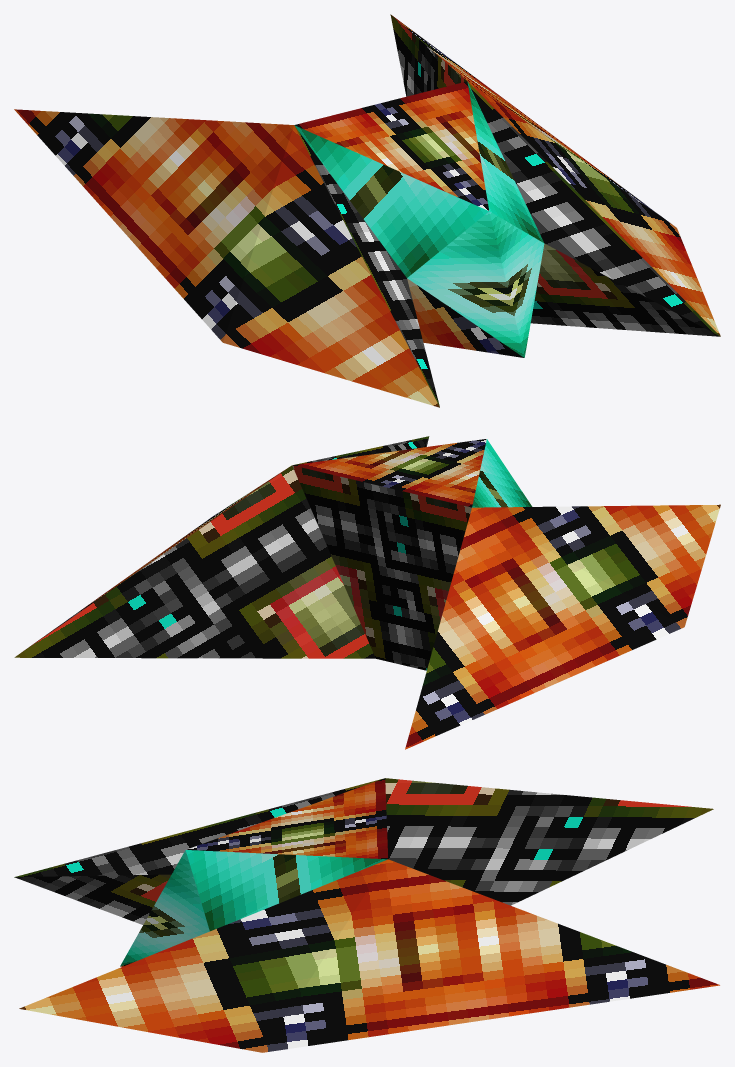
File: invader.fbx
3 views of the same model, one above another, from view 1: azimuth 30°, elevation 25°; view 2: azimuth 150°, elevation 25°; view 3: azimuth 270°, elevation 25° (orthographic). The views are drawn at different scales.
Parts seen in each view (by area): view 1: Invader_I.001; view 2: Invader_I.001; view 3: Invader_I.001.
Boxes of the visible parts, x1,y1,x2,y2 form: Invader_I.001: (14, 14, 720, 407); Invader_I.001: (14, 436, 720, 749); Invader_I.001: (14, 778, 719, 1052).
Bounding box in the file's own units: 3298 × 1380 × 4630.
3 materials, 3 textured.
